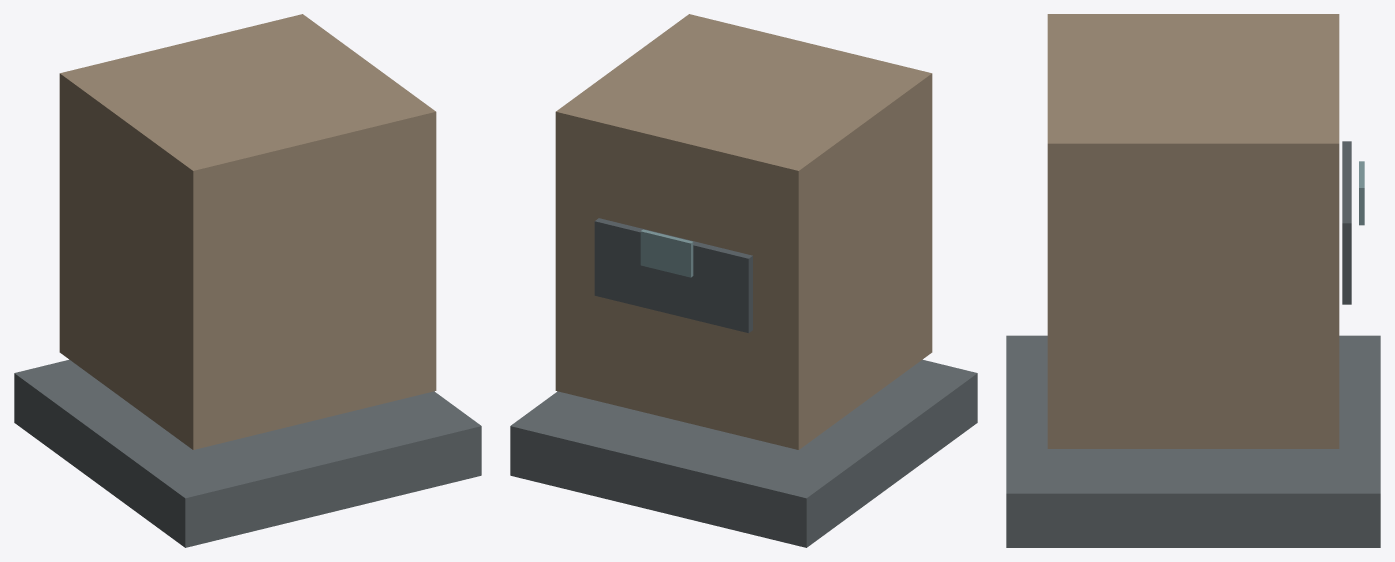
The model's file is iz3_prison_watch_02.glb.
3 views of the same model, side by side, from view 1: azimuth 30°, elevation 25°; view 2: azimuth 150°, elevation 25°; view 3: azimuth 270°, elevation 25° (orthographic). The views are drawn at different scales.
Parts seen in each view (by area): view 1: cabinet, base; view 2: cabinet, base, panel, display; view 3: cabinet, base, panel.
Part boxes in pixels (x1,y1,x2,y2): cabinet: (59, 14, 436, 449); base: (14, 359, 481, 547); cabinet: (555, 14, 932, 449); base: (510, 359, 977, 547); panel: (594, 218, 752, 333); display: (640, 229, 693, 277); cabinet: (1047, 14, 1339, 448); base: (1006, 335, 1380, 547); panel: (1342, 141, 1351, 304).
Size of the model in its own units: 2 by 2.3 by 2.
